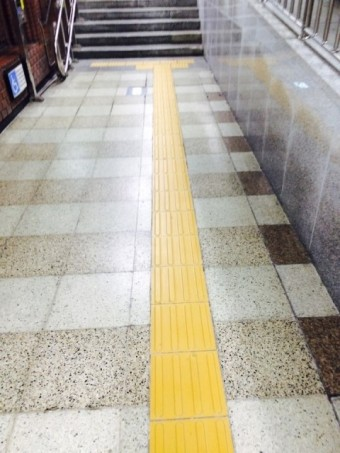guideBlock: (151, 347, 228, 419), (146, 299, 209, 349), (149, 266, 219, 306), (147, 208, 205, 245), (155, 195, 208, 231), (151, 131, 189, 170), (154, 174, 198, 207), (148, 236, 205, 260), (155, 159, 196, 185)
